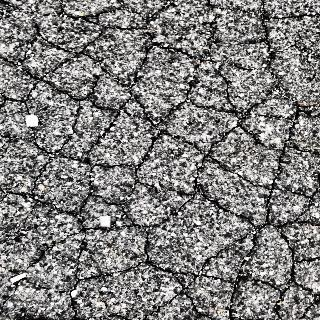alligator-crack: (9, 13, 306, 314)
